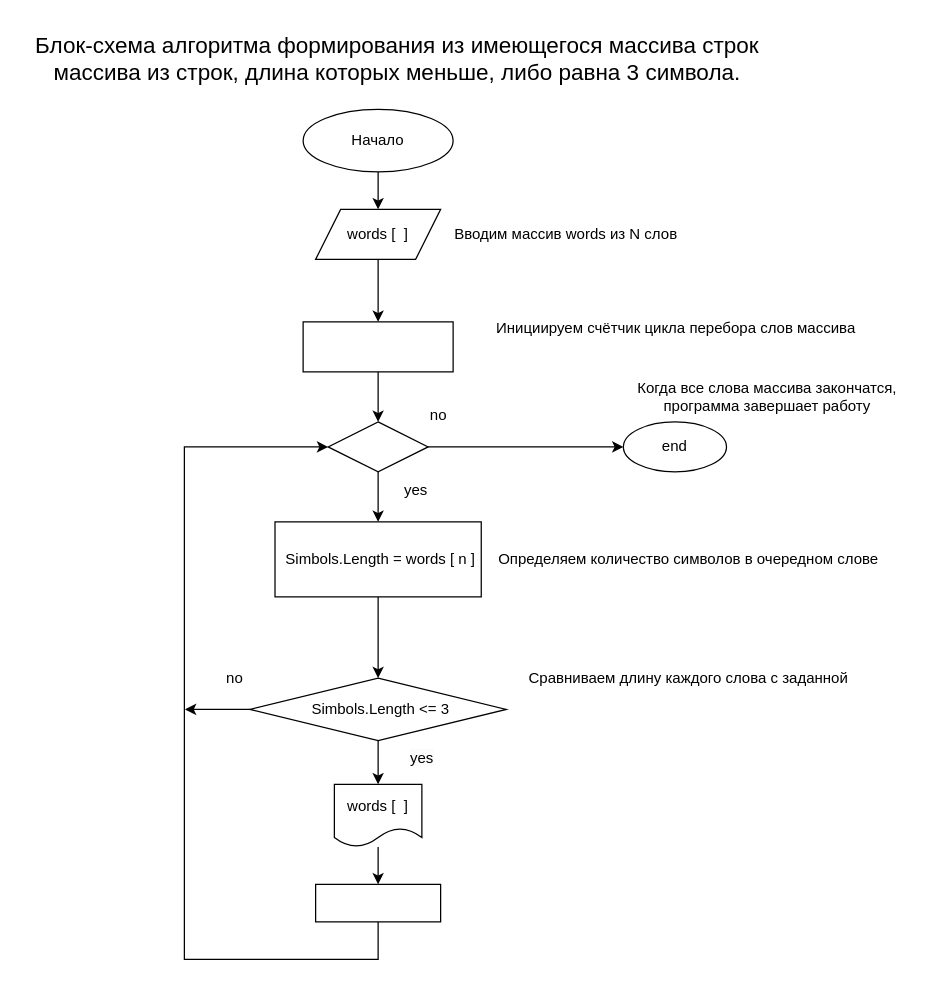
Image size: 933x991. Some labels were removed from this diagram. Each missing label, with the box of its shape:
n < N: (327, 421, 428, 472)
n = 0: (302, 321, 453, 372)
n = n + 1: (314, 883, 441, 922)
